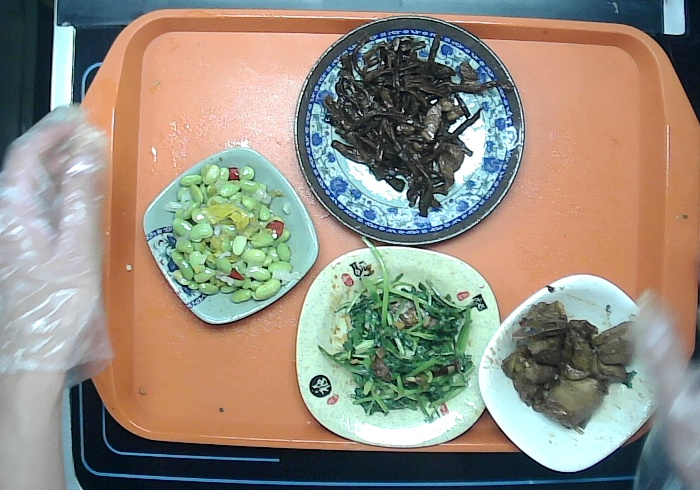NLDX-Bai_Se_Xiao_Fang_Die: (474, 270, 668, 475)
NLDX-Fu_Zi_Fang_Die: (291, 242, 504, 452)
NLDX-Qing_Hua_Xiao_Fang_Die: (139, 144, 322, 327)
NLDX-Qing_Hua_Yuan_Die: (288, 11, 530, 252)
